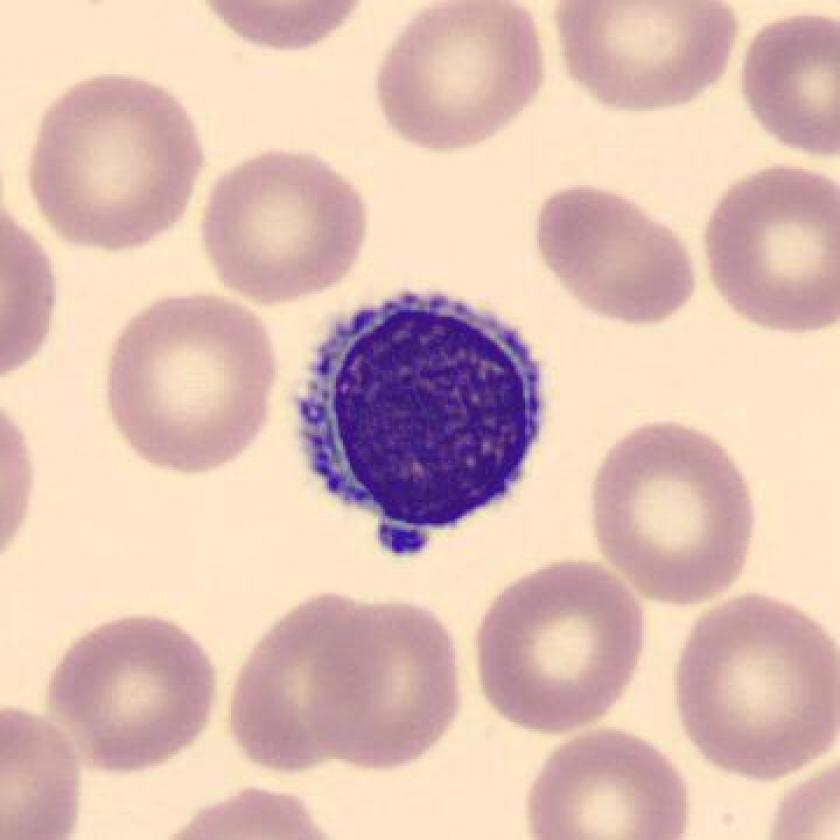lymphocyte: (286, 265, 559, 577)
